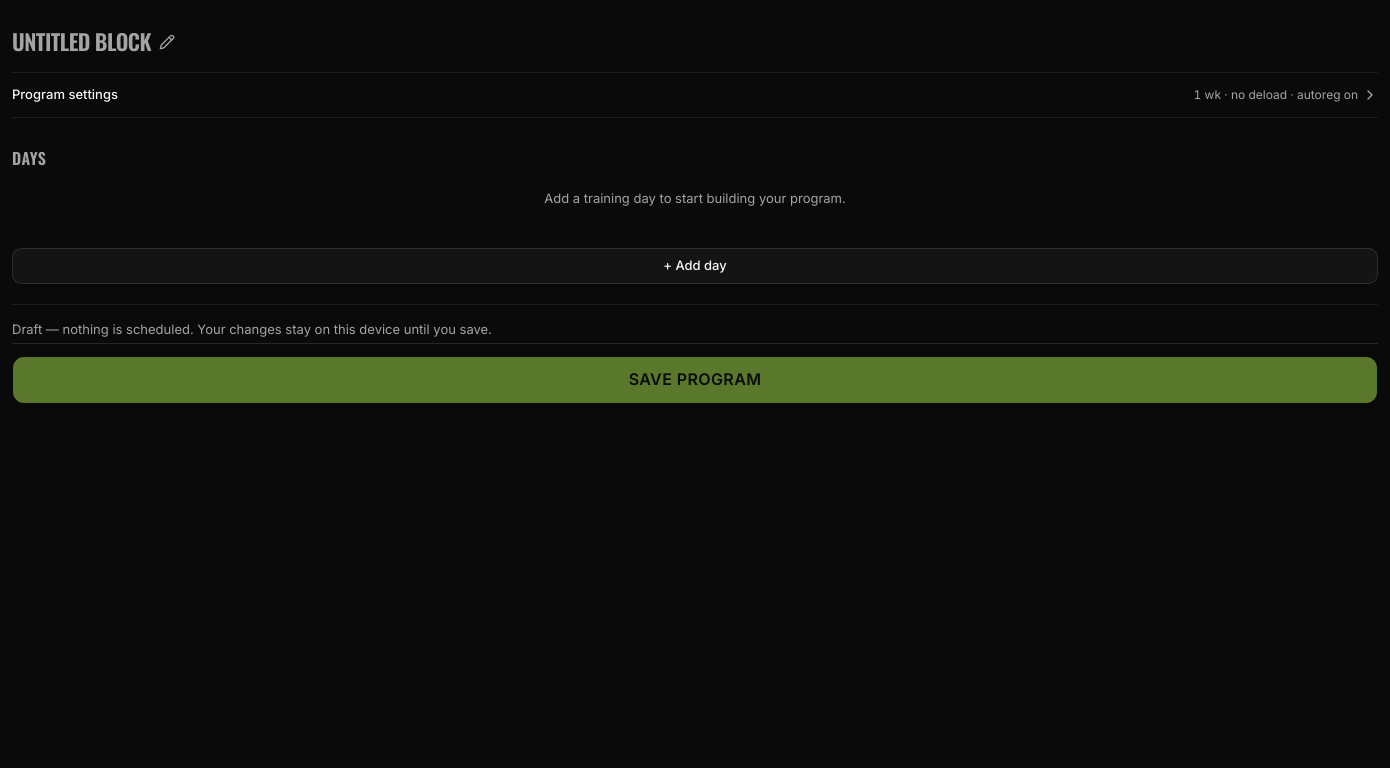
Test: the settings disclosure › starts closed with its panel hidden, and opens on press
Click the button "Program settings 1 wk · no deload · autoreg on". click: point(65, 94)
box: top-left (12, 73), bottom-right (1378, 117)
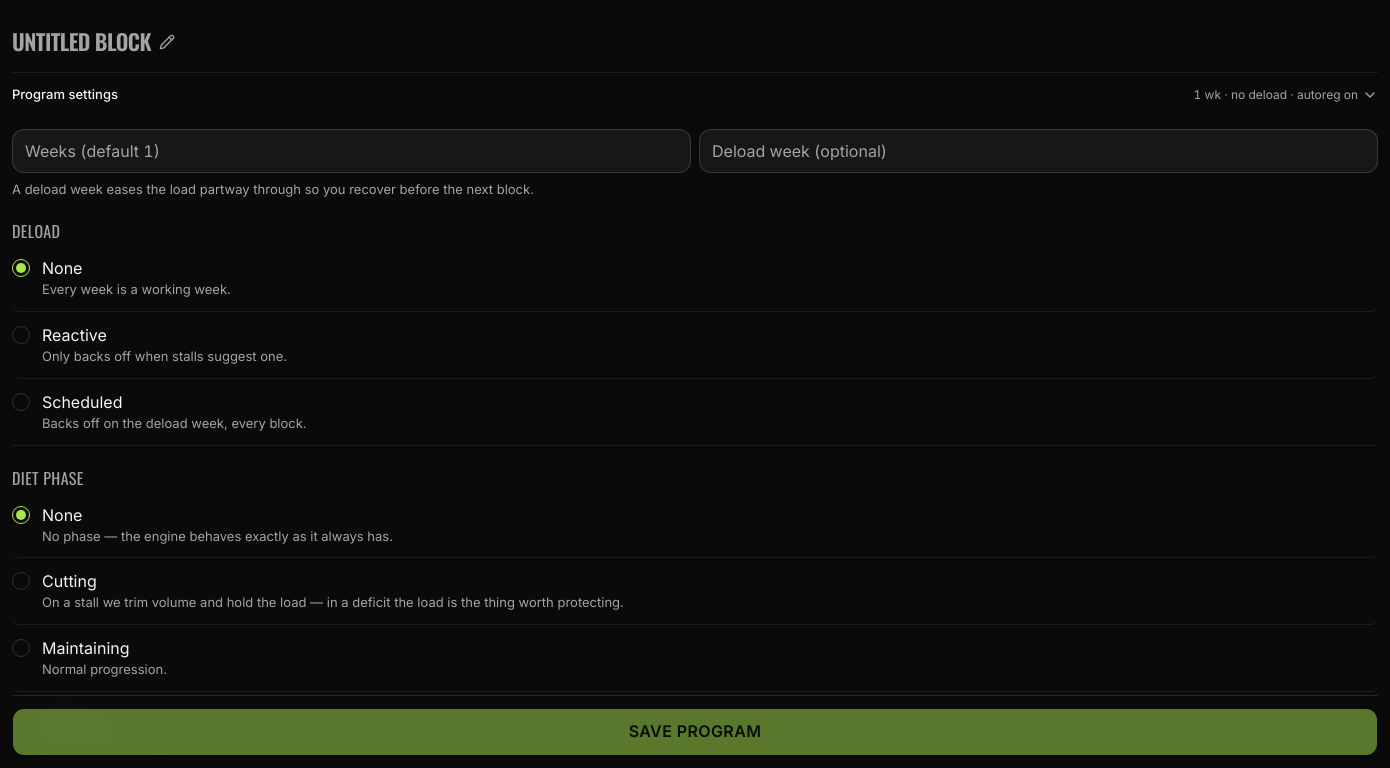
expect the button "Program settings 1 wk · no deload · autoreg on" is expanded: met
Click the button "Program settings 1 wk · no deload · autoreg on". click: point(65, 94)
box: top-left (12, 73), bottom-right (1378, 117)
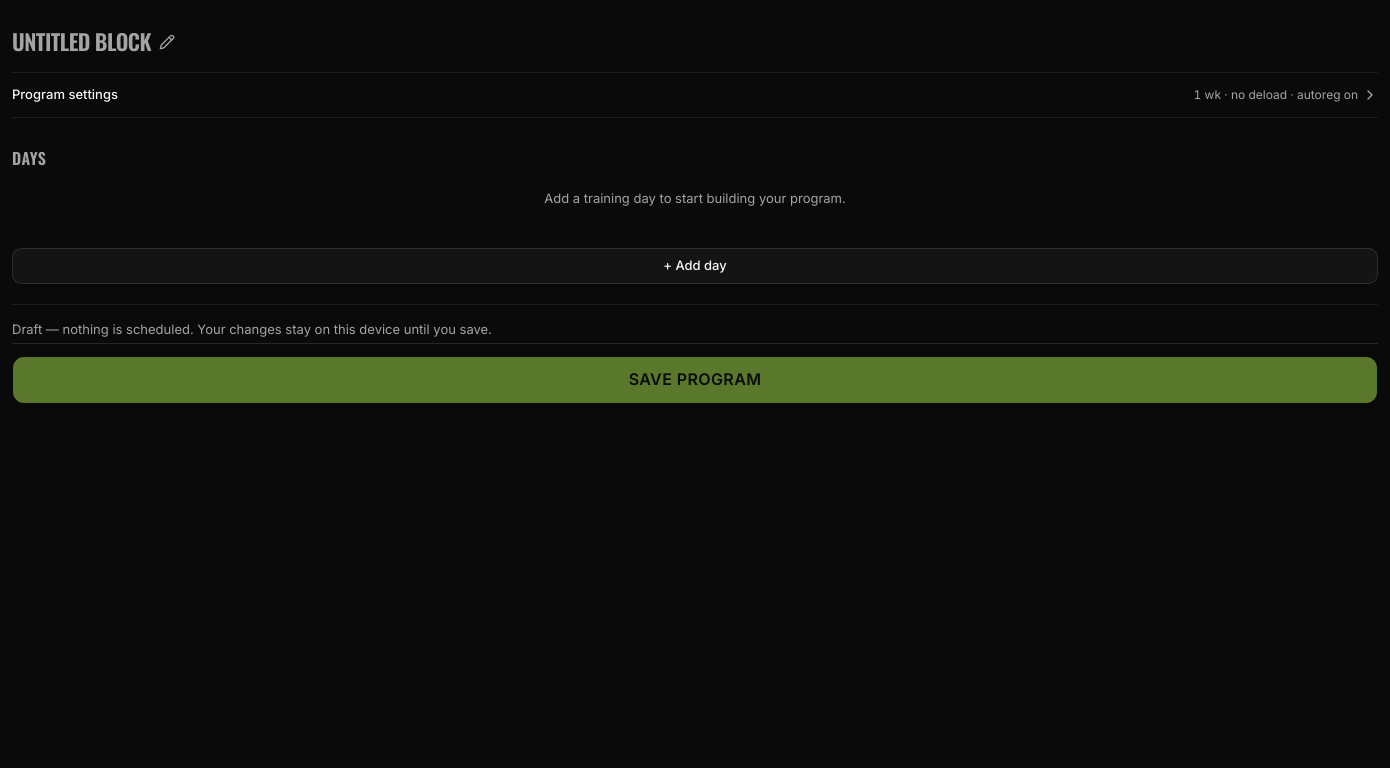
expect the button "Program settings 1 wk · no deload · autoreg on" is collapsed: met, box top-left (12, 73), bottom-right (1378, 117)
